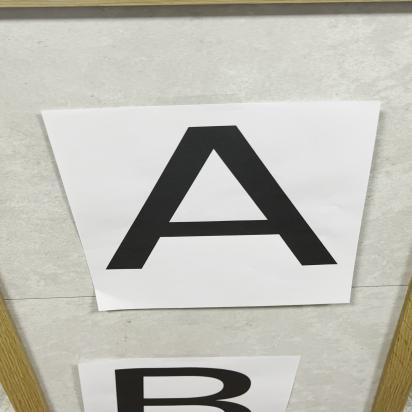seat: (105, 122, 341, 288)
